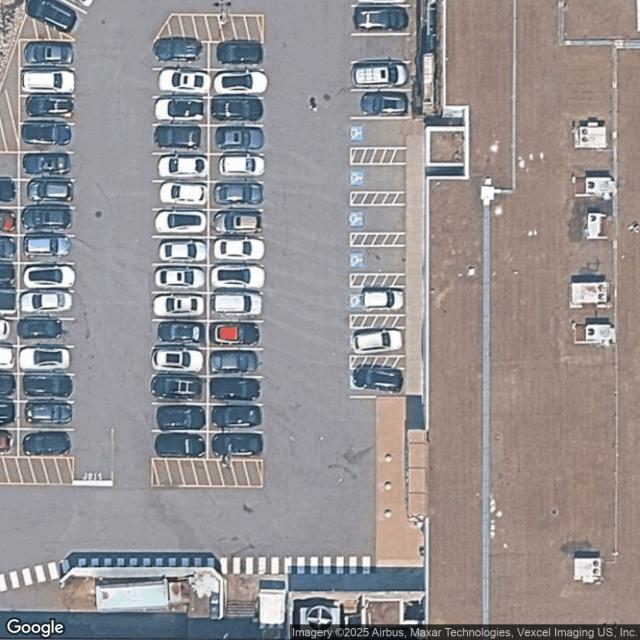car: (26, 0, 78, 33), (352, 59, 409, 88), (213, 69, 268, 95), (354, 6, 408, 32), (352, 365, 404, 392), (214, 96, 264, 124), (157, 67, 210, 93), (212, 292, 262, 319), (20, 346, 70, 373), (22, 69, 75, 94), (22, 205, 72, 231), (151, 375, 203, 400), (156, 405, 206, 431), (23, 41, 75, 66), (154, 433, 206, 458), (211, 432, 263, 457), (212, 266, 263, 291), (155, 96, 206, 121), (154, 209, 207, 233), (23, 264, 76, 288), (20, 290, 73, 314), (22, 121, 72, 146), (23, 373, 73, 398), (153, 37, 203, 62), (213, 184, 261, 209), (154, 266, 206, 289), (351, 328, 403, 351), (158, 154, 207, 178), (25, 401, 74, 425), (209, 377, 260, 400), (26, 178, 74, 202), (215, 40, 263, 64), (23, 432, 71, 456), (212, 349, 258, 374), (211, 405, 261, 428), (153, 294, 205, 316), (23, 236, 69, 260), (215, 212, 261, 236), (154, 125, 202, 148), (25, 96, 75, 118), (158, 182, 208, 204), (361, 92, 408, 115), (216, 128, 261, 152), (23, 153, 72, 175), (155, 349, 198, 374), (220, 156, 264, 180), (356, 288, 404, 310), (163, 239, 208, 262), (215, 237, 262, 259), (157, 321, 205, 342), (210, 322, 260, 342), (17, 318, 65, 338), (0, 288, 18, 312), (0, 398, 16, 425), (0, 177, 16, 202), (0, 374, 16, 398), (0, 345, 15, 370), (0, 236, 16, 259), (0, 260, 16, 283), (0, 210, 16, 232), (0, 429, 13, 452)
